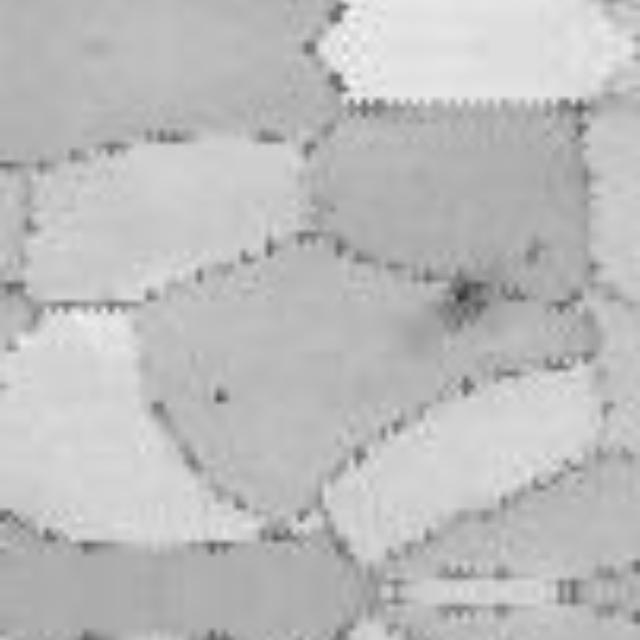good_void: (420, 271, 494, 335), (207, 382, 234, 415)
